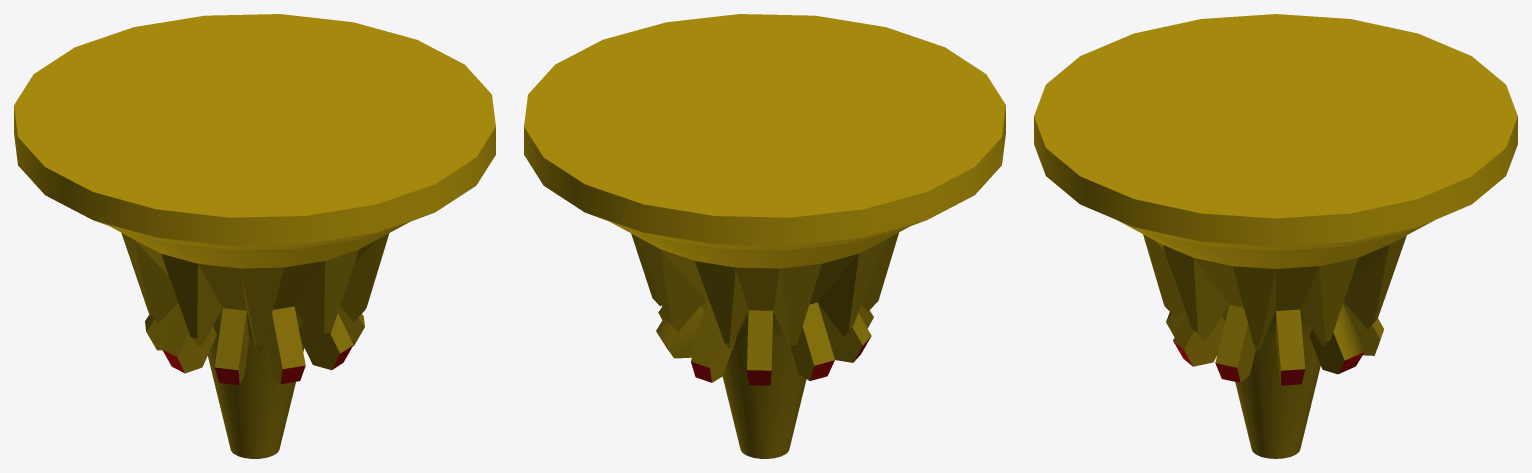
File: Air Stage Platform 1.fbx
3 views of the same model, side by side, from view 1: azimuth 30°, elevation 25°; view 2: azimuth 150°, elevation 25°; view 3: azimuth 270°, elevation 25° (orthographic).
Parts seen in each view (by area): view 1: pCylinder1; view 2: pCylinder1; view 3: pCylinder1.
Part boxes in pixels (x1,y1,x2,y2): pCylinder1: (14,14,495,458); pCylinder1: (524,14,1005,458); pCylinder1: (1034,14,1517,458).
Bounding box in the file's own units: 10.41 × 7.89 × 10.41.
